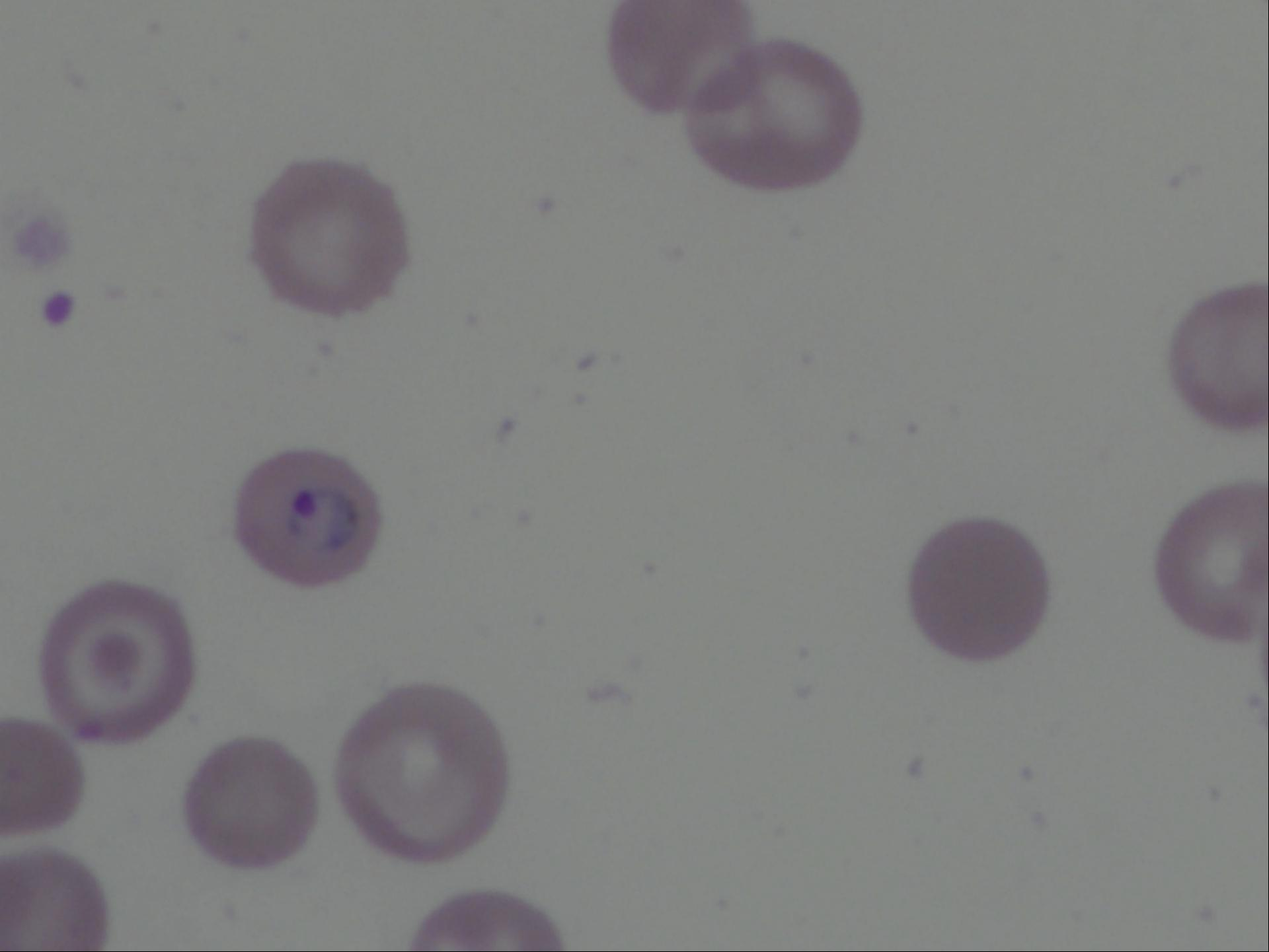Infected: (234, 443, 386, 589)
Uninfected: (335, 686, 507, 861), (40, 582, 192, 749), (692, 43, 859, 194), (256, 157, 414, 316), (908, 516, 1053, 658), (606, 0, 761, 115), (189, 734, 314, 870), (1159, 487, 1269, 639), (1174, 289, 1269, 425), (0, 717, 84, 842), (0, 857, 103, 952)
